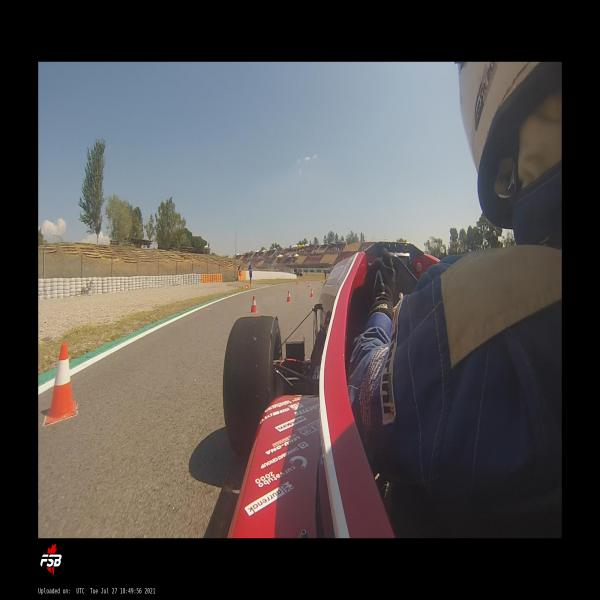orange_cone: (45, 343, 78, 424), (250, 295, 258, 314), (286, 290, 292, 302), (245, 284, 250, 290), (311, 288, 314, 297), (308, 282, 310, 287)
yellow_cone: (242, 286, 244, 291)
